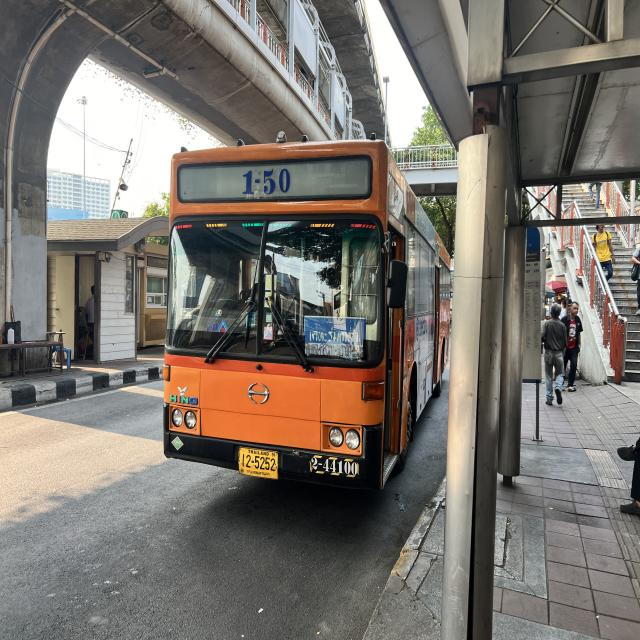BMTA-bus: (161, 140, 452, 493)
Bus-Line-Number: (236, 161, 295, 198)
Destination-Sign-Normal: (303, 316, 367, 362)
